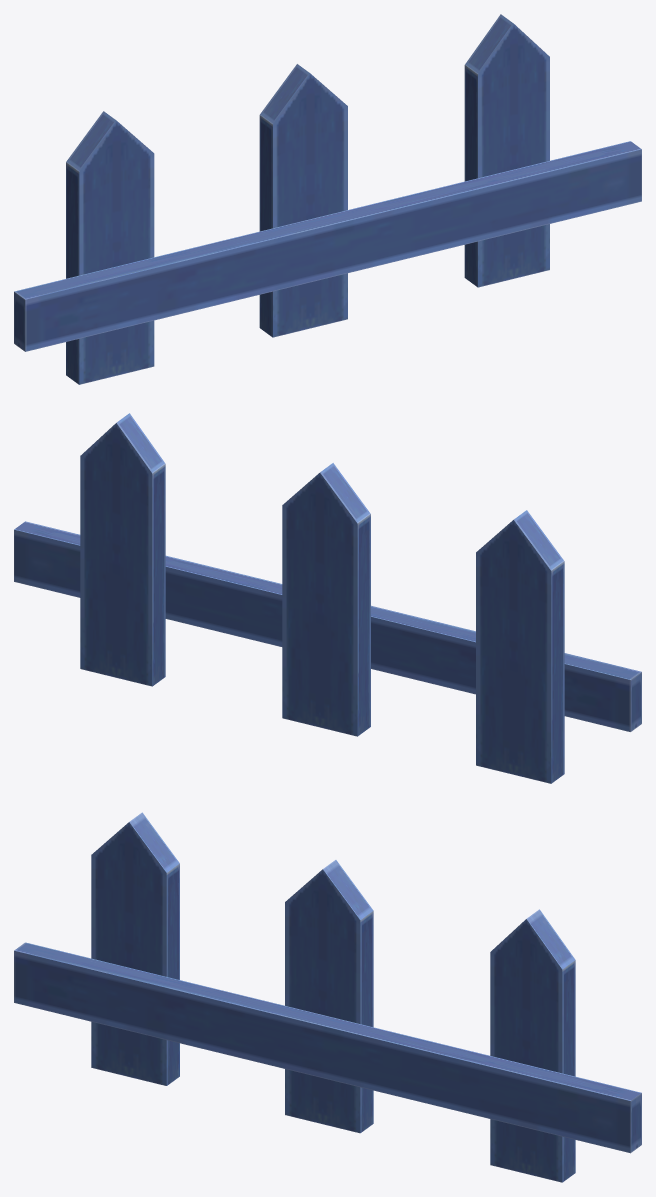
3 renders of one model, top to bottom at view 1: azimuth 30°, elevation 25°; view 2: azimuth 150°, elevation 25°; view 3: azimuth 330°, elevation 25°, orthographic.
Parts seen in each view (by area): view 1: geom_node_0; view 2: geom_node_0; view 3: geom_node_0.
Part boxes in pixels (x1,y1,x2,y2): geom_node_0: (14,14,641,384); geom_node_0: (14,413,641,783); geom_node_0: (14,812,641,1182).
Bounding box in the file's own units: 3 × 1.19 × 0.2117.
1 material, 1 textured.
